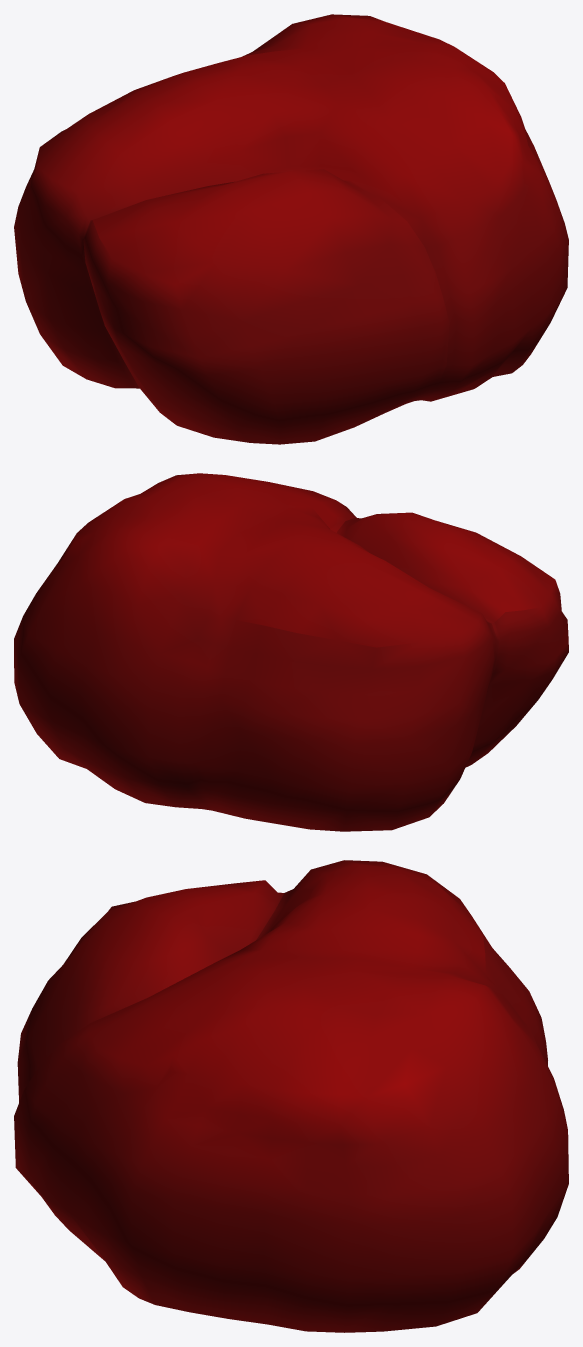
Rendered from geology-rocks-rockmedium_v6.fbx.
3 views of the same model, one above another, from view 1: azimuth 30°, elevation 25°; view 2: azimuth 150°, elevation 25°; view 3: azimuth 270°, elevation 25° (orthographic). The views are drawn at different scales.
Parts seen in each view (by area): view 1: RockMedium_v6; view 2: RockMedium_v6; view 3: RockMedium_v6.
Part boxes in pixels (x1,y1,x2,y2): RockMedium_v6: (14, 14, 568, 444); RockMedium_v6: (14, 473, 568, 831); RockMedium_v6: (14, 860, 568, 1332).
Size of the model in its own units: 3.91 by 2.13 by 3.45.
